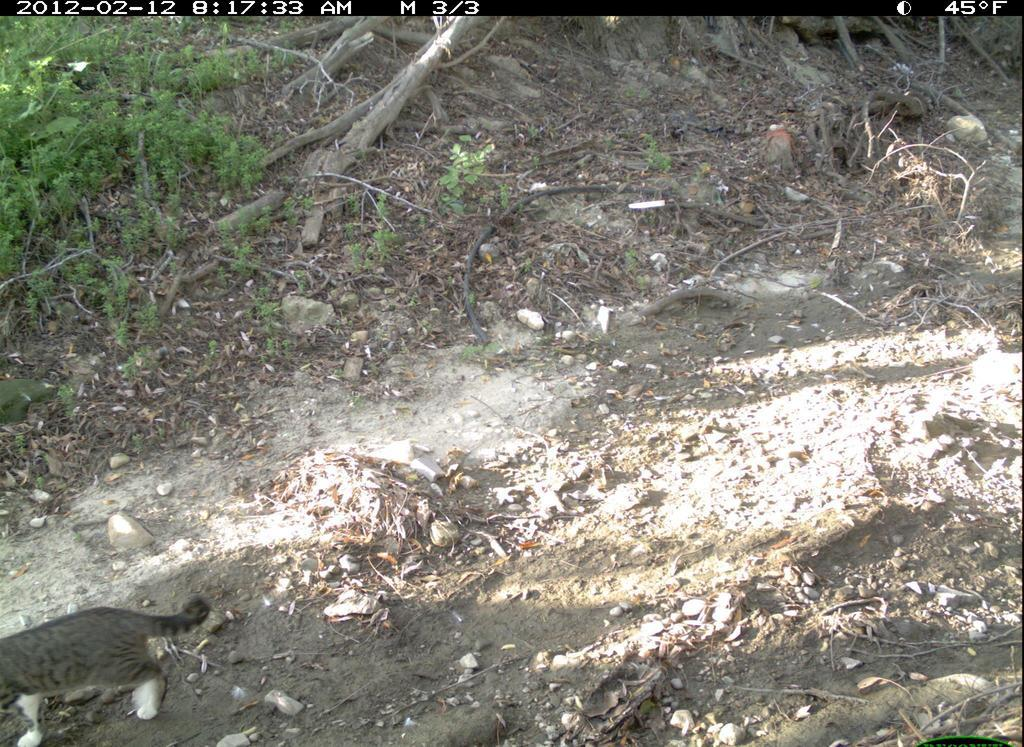cat: (4, 598, 225, 747)
